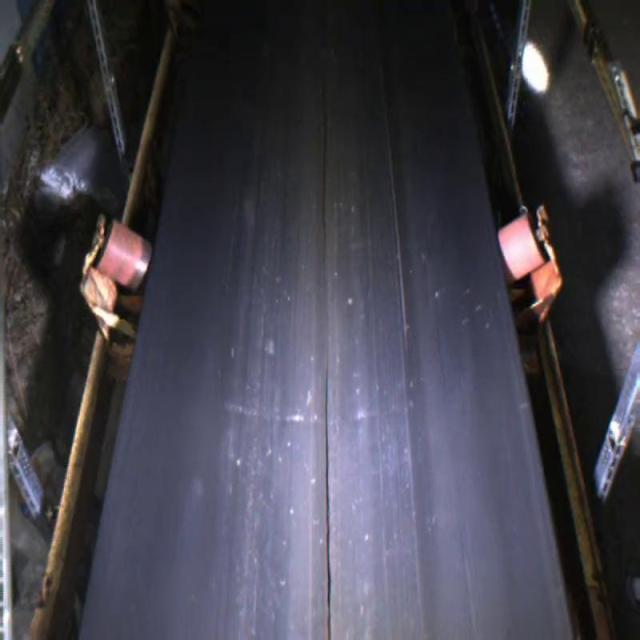Tear: (310, 363, 350, 640)
